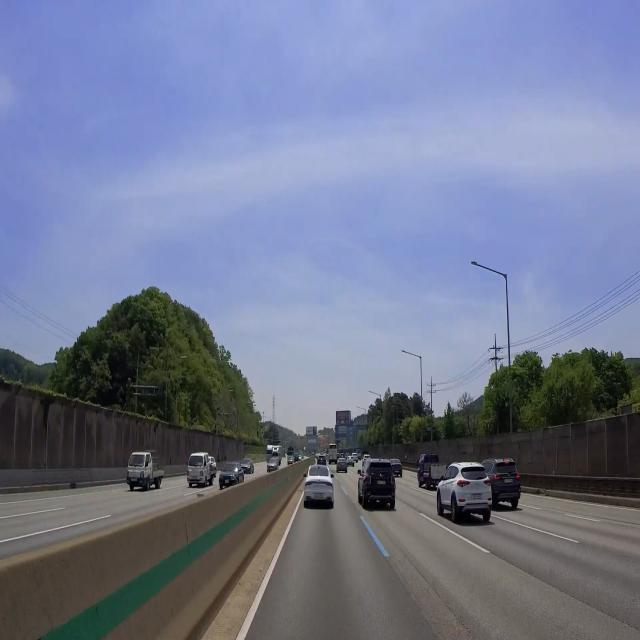car: (468, 488, 486, 505), (311, 489, 328, 503), (374, 477, 388, 491), (502, 476, 516, 487), (127, 476, 140, 486), (222, 477, 232, 488), (392, 468, 402, 475)
